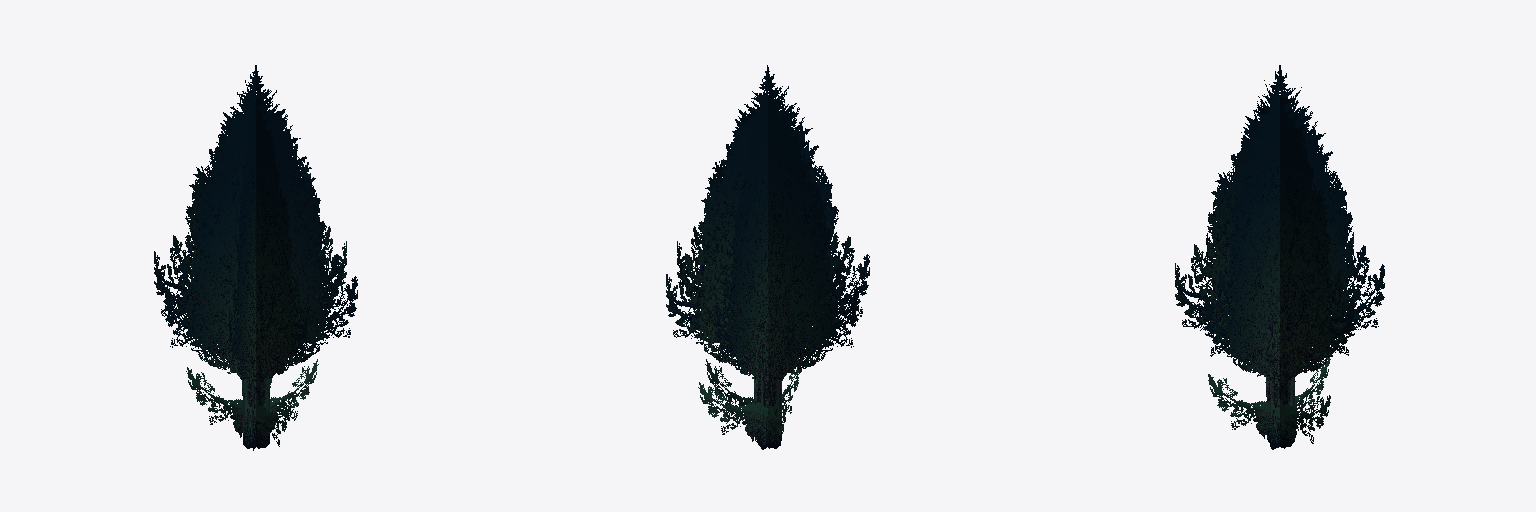
3 renders of one model, left to right at view 1: azimuth 30°, elevation 25°; view 2: azimuth 150°, elevation 25°; view 3: azimuth 270°, elevation 25°, orthographic.
Parts seen in each view (by area): view 1: Plane, Plane.001, Plane.002, Plane.003; view 2: Plane, Plane.003, Plane.002, Plane.001; view 3: Plane.003, Plane.001, Plane.002.
Boxes of the visible parts, x1=… form: Plane: x1=165, y1=65, x2=346, y2=448; Plane.001: x1=154, y1=65, x2=357, y2=447; Plane.002: x1=237, y1=71, x2=308, y2=448; Plane.003: x1=229, y1=75, x2=271, y2=450; Plane: x1=677, y1=67, x2=858, y2=448; Plane.003: x1=666, y1=65, x2=869, y2=446; Plane.002: x1=715, y1=71, x2=802, y2=449; Plane.001: x1=760, y1=72, x2=794, y2=448; Plane.003: x1=1206, y1=65, x2=1353, y2=448; Plane.001: x1=1206, y1=67, x2=1353, y2=449; Plane.002: x1=1175, y1=65, x2=1384, y2=446.
Bounding box in the file's own units: 10 × 20 × 10.
Materials: 1 (1 with a texture image).